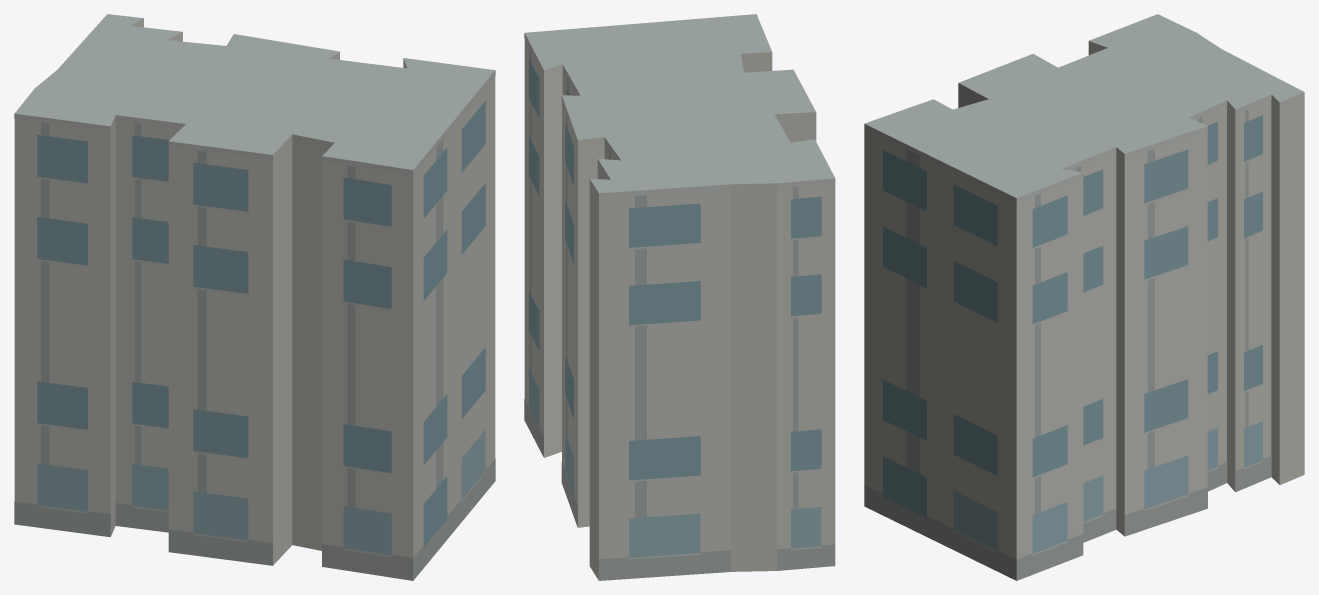
Rendered from survey-upis-32987984.glb.
3 renders of one model, left to right at view 1: azimuth 30°, elevation 25°; view 2: azimuth 150°, elevation 25°; view 3: azimuth 270°, elevation 25°, orthographic. The views are drawn at different scales.
Visible parts, largest first — view 1: survey-upis-32987984.tmp; view 2: survey-upis-32987984.tmp; view 3: survey-upis-32987984.tmp.
Boxes of the visible parts, x1,y1,x2,y2 form: survey-upis-32987984.tmp: [14, 14, 495, 580]; survey-upis-32987984.tmp: [524, 14, 835, 580]; survey-upis-32987984.tmp: [864, 14, 1304, 580].
Bounding box in the file's own units: 18.9 × 18.3 × 19.1.
